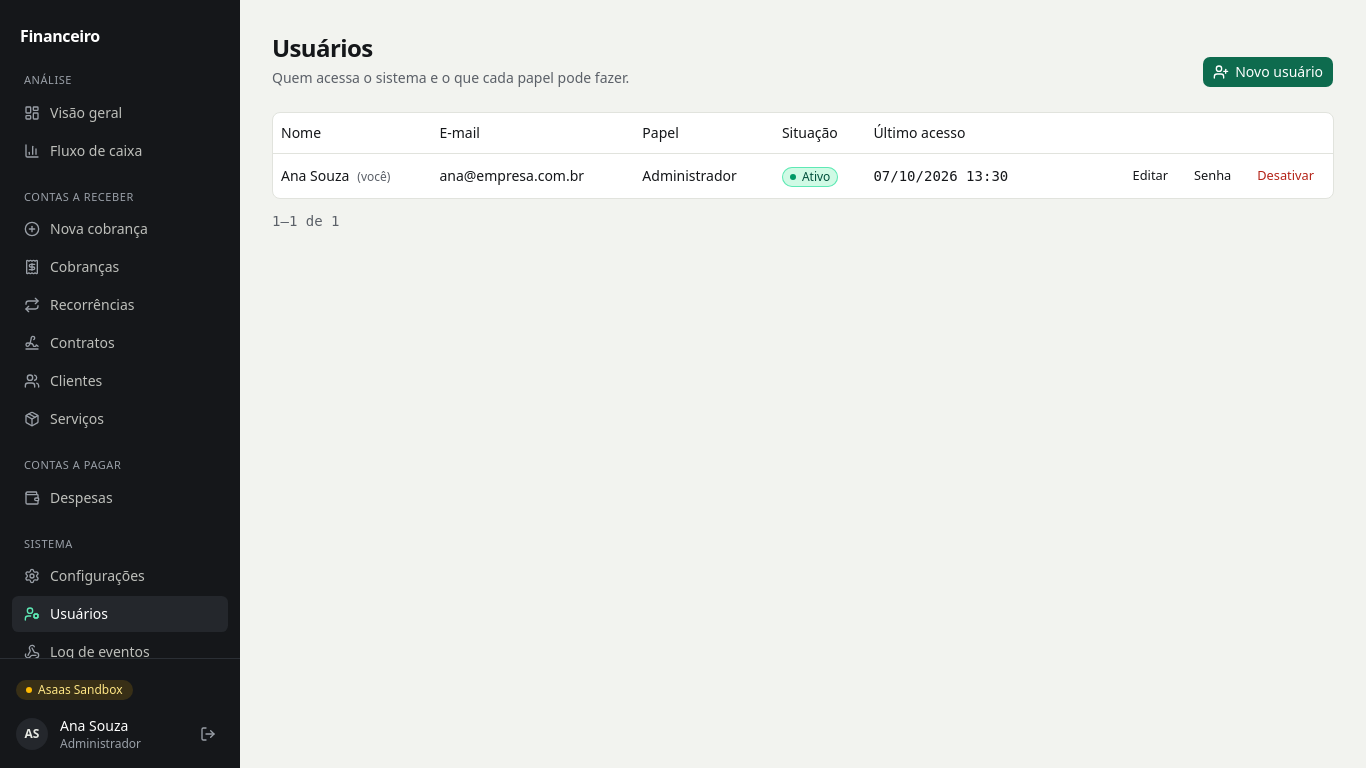
Test: [FND-03.1] Usuários › [FND-03.4] mostra o motivo quando a API recusa (LAST_ADMIN)
Note: "Ana Souza" também é o usuário logado no menu: espera a linha da tabela.
Click the button with aria-label "Desativar Ana Souza".
click(1286, 176)  # box [1246,162,1325,190]
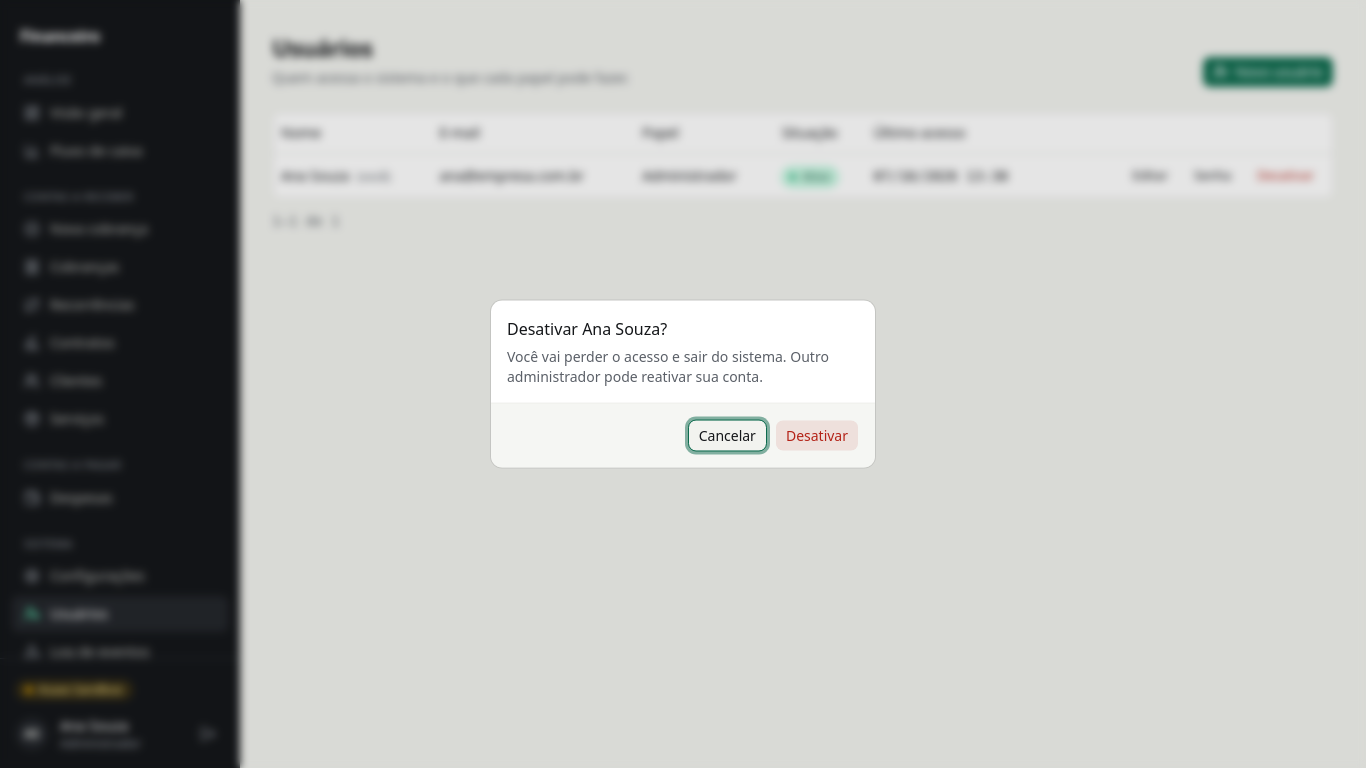
Expected: the dialog shows "Você vai perder o acesso", [507,346,829,386]
Click the button "Desativar".
click(817, 436)  # box [775,420,859,452]
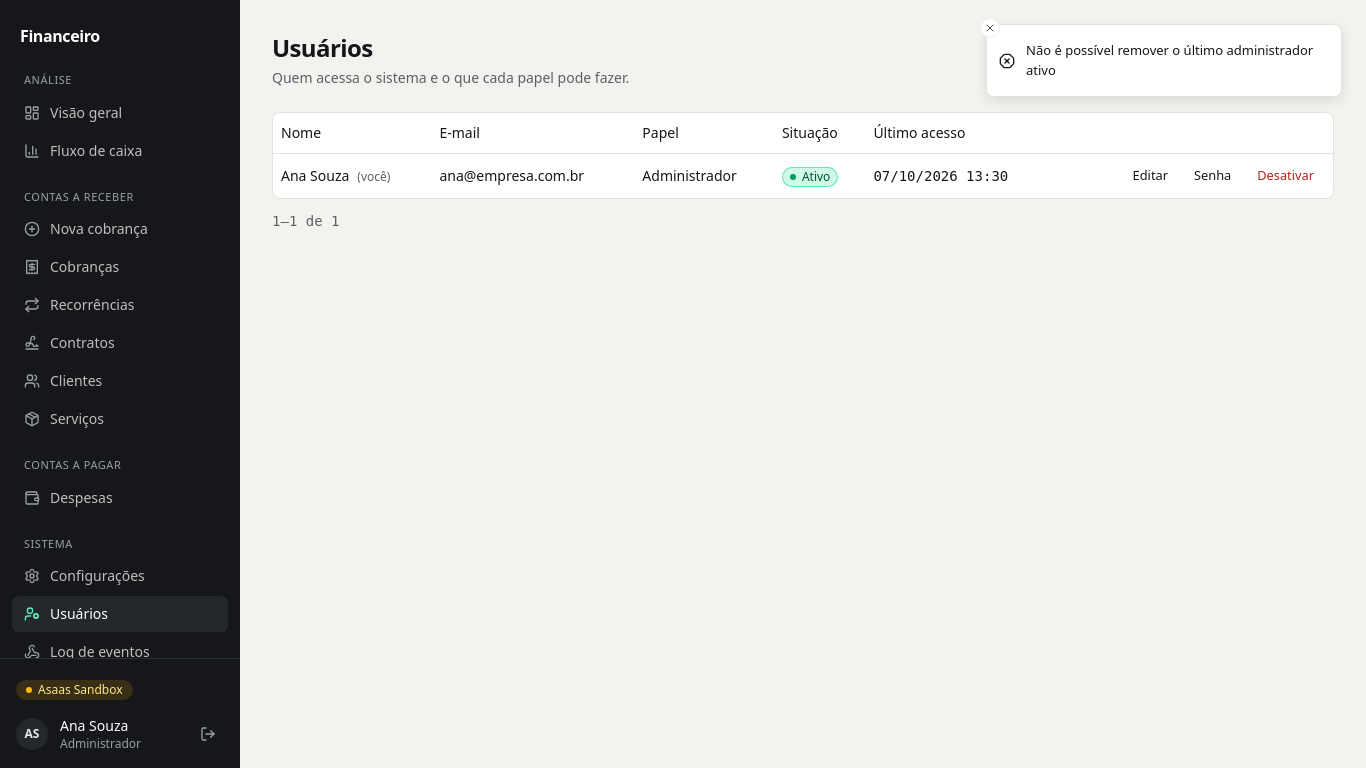
Expected: the text "Ativo" is shown, [782,166,838,186]
Expected: the text "Não é possível remover o último administrador ativo" is shown, [1026,41,1325,80]
